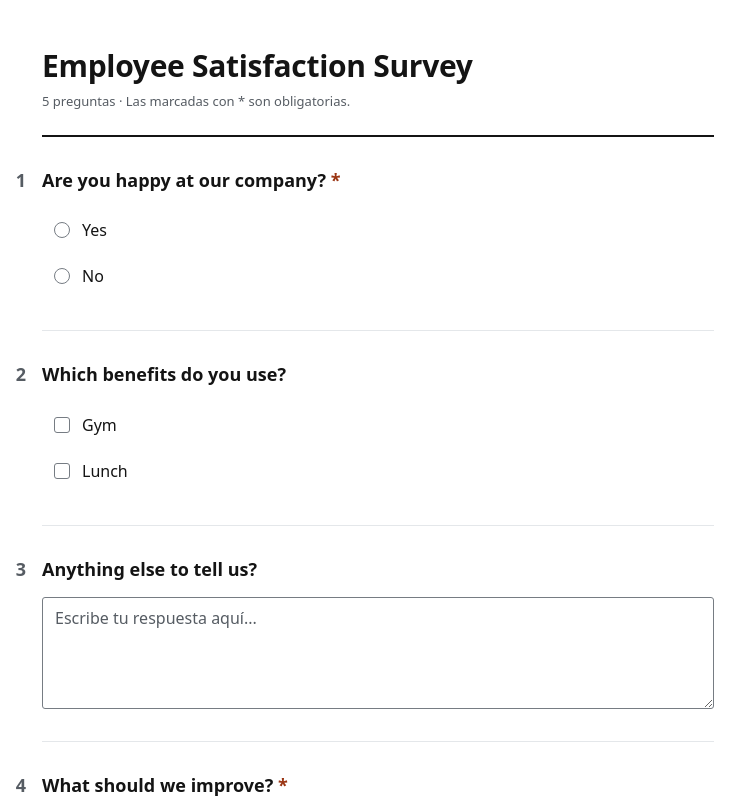
Test: SurveyAnsweringPage (REQ-FE-023, REQ-FE-024, REQ-FE-034) › AC-FE-023-2: focus goes to the textarea when it is the first unanswered required question
Expected: the heading "Employee Satisfaction Survey" is shown, [42, 45, 473, 86]
Click the text "Yes".
click(94, 230)  # box [82, 218, 107, 242]
(page scrolled)
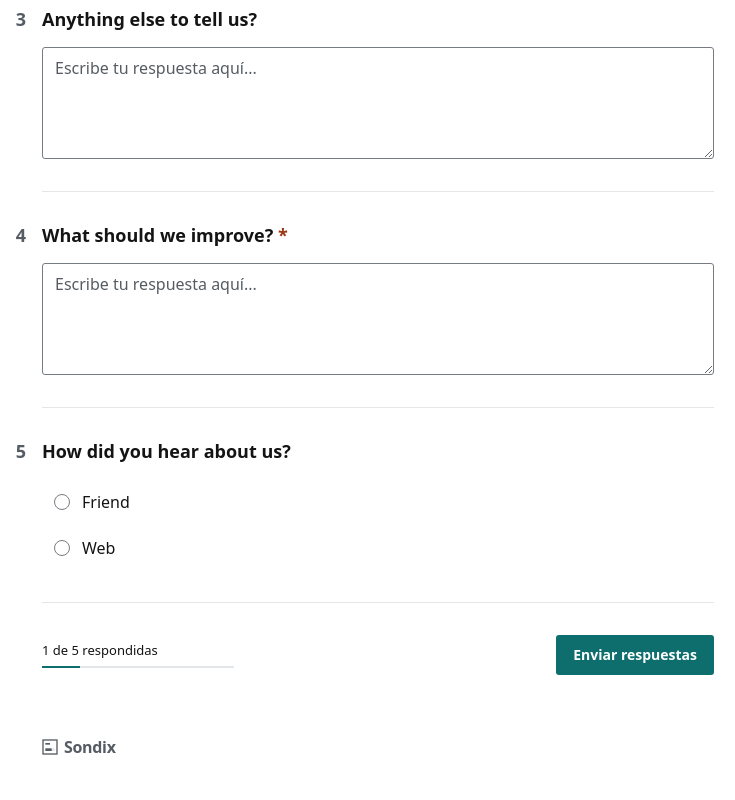
Click the button "Enviar respuestas".
click(635, 655)  # box [556, 635, 714, 675]
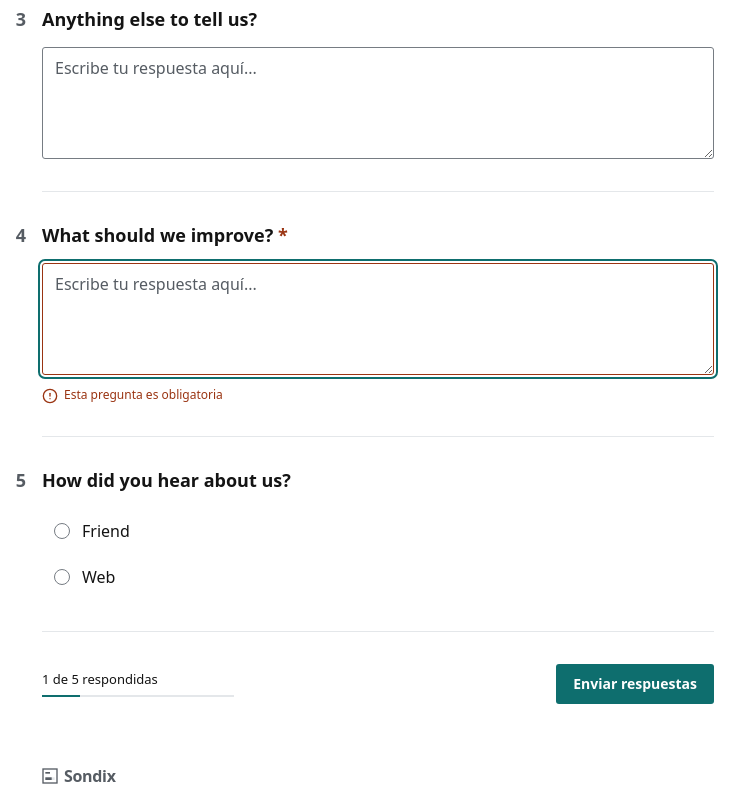
Expected: the text "Esta pregunta es obligatoria" is shown once, [64, 387, 223, 404]
